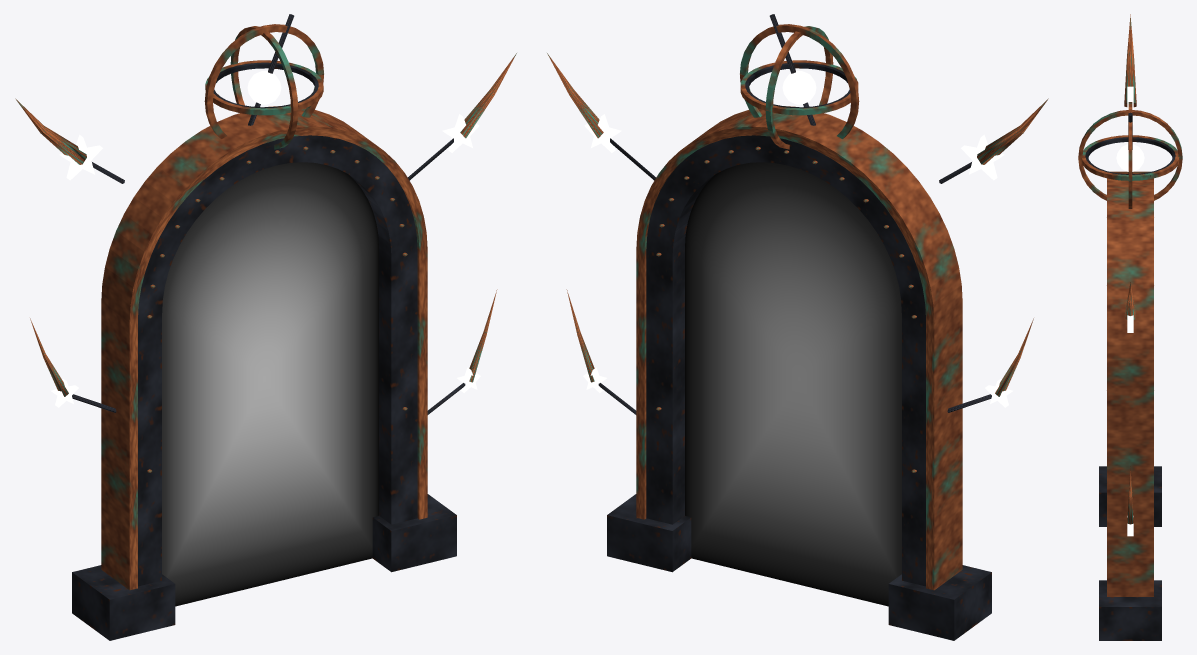
The model's file is starfall_ridge.glb.
3 renders of one model, left to right at view 1: azimuth 30°, elevation 25°; view 2: azimuth 150°, elevation 25°; view 3: azimuth 270°, elevation 25°, orthographic. The views are drawn at different scales.
Parts seen in each view (by area): view 1: Veil, Frame; view 2: Veil, Frame; view 3: Frame.
Boxes of the visible parts, left/top/right/bottom form: Veil: left=162, top=162, right=378, bottom=606; Frame: left=15, top=14, right=516, bottom=640; Veil: left=685, top=162, right=901, bottom=606; Frame: left=547, top=14, right=1048, bottom=640; Frame: left=1078, top=14, right=1182, bottom=640.
Size of the model in its own units: 3.07 by 3.29 by 0.6641.
Materials: 4 (3 with a texture image).
